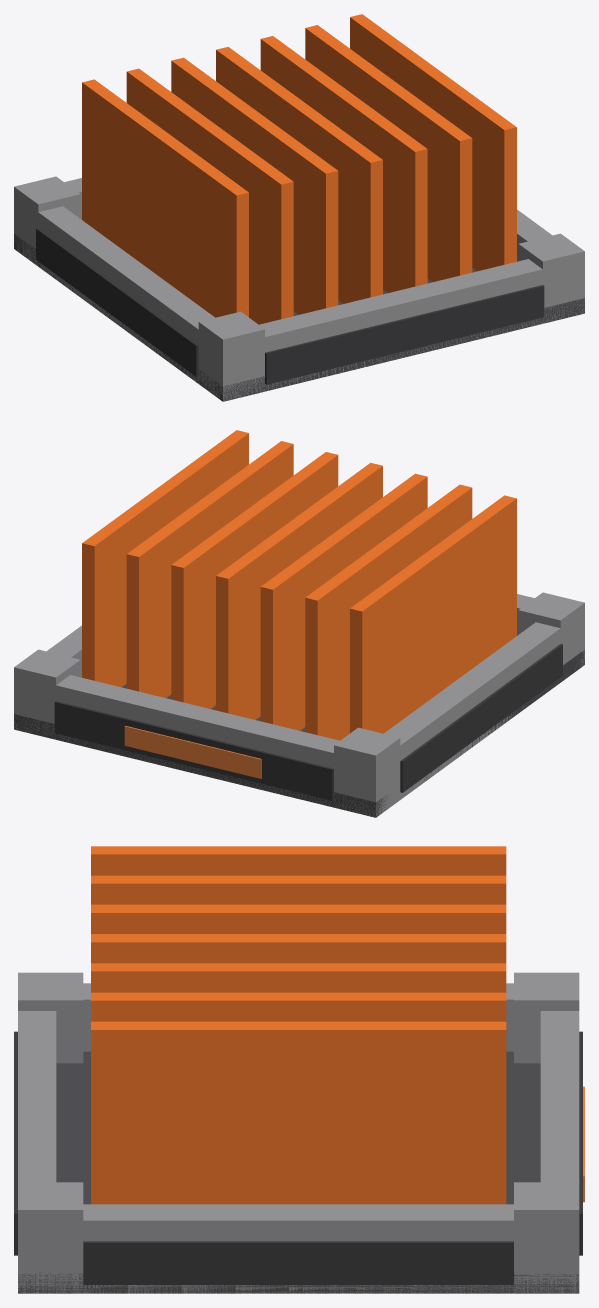
The model's file is vge_large_heatsink_hot.obj.
3 views of the same model, one above another, from view 1: azimuth 30°, elevation 25°; view 2: azimuth 150°, elevation 25°; view 3: azimuth 270°, elevation 25° (orthographic). The views are drawn at different scales.
Visible parts, largest first — view 1: vge_large_heatsink_hot_9, vge_large_heatsink_hot_1, vge_large_heatsink_hot_11, vge_large_heatsink_hot_14, vge_large_heatsink_hot_13, vge_large_heatsink_hot_12, vge_large_heatsink_hot_15, vge_large_heatsink_hot_10, vge_large_heatsink_hot_16, vge_large_heatsink_hot_3, vge_large_heatsink_hot_18, vge_large_heatsink_hot_0 (+5 smaller); view 2: vge_large_heatsink_hot_9, vge_large_heatsink_hot_2, vge_large_heatsink_hot_11, vge_large_heatsink_hot_14, vge_large_heatsink_hot_13, vge_large_heatsink_hot_12, vge_large_heatsink_hot_15, vge_large_heatsink_hot_10, vge_large_heatsink_hot_3, vge_large_heatsink_hot_17, vge_large_heatsink_hot_18, vge_large_heatsink_hot_0 (+6 smaller); view 3: vge_large_heatsink_hot_15, vge_large_heatsink_hot_4, vge_large_heatsink_hot_19, vge_large_heatsink_hot_0, vge_large_heatsink_hot_9, vge_large_heatsink_hot_13, vge_large_heatsink_hot_10, vge_large_heatsink_hot_11, vge_large_heatsink_hot_12, vge_large_heatsink_hot_14, vge_large_heatsink_hot_2, vge_large_heatsink_hot_1 (+7 smaller).
Boxes of the visible parts, x1,y1,x2,y2 form: vge_large_heatsink_hot_9: (82, 79, 248, 317); vge_large_heatsink_hot_1: (208, 259, 584, 401); vge_large_heatsink_hot_11: (171, 57, 338, 314); vge_large_heatsink_hot_14: (305, 25, 472, 281); vge_large_heatsink_hot_13: (260, 36, 427, 292); vge_large_heatsink_hot_12: (216, 46, 382, 303); vge_large_heatsink_hot_15: (350, 14, 516, 271); vge_large_heatsink_hot_10: (126, 68, 293, 324); vge_large_heatsink_hot_16: (265, 285, 544, 384); vge_large_heatsink_hot_3: (28, 205, 214, 390); vge_large_heatsink_hot_18: (36, 228, 198, 376); vge_large_heatsink_hot_0: (14, 233, 584, 401); vge_large_heatsink_hot_9: (350, 495, 516, 733); vge_large_heatsink_hot_2: (14, 675, 390, 817); vge_large_heatsink_hot_11: (260, 473, 427, 730); vge_large_heatsink_hot_14: (126, 441, 293, 697); vge_large_heatsink_hot_13: (171, 452, 338, 708); vge_large_heatsink_hot_12: (216, 462, 382, 719); vge_large_heatsink_hot_15: (82, 430, 248, 687); vge_large_heatsink_hot_10: (305, 484, 472, 740); vge_large_heatsink_hot_3: (384, 622, 566, 806); vge_large_heatsink_hot_17: (54, 701, 333, 800); vge_large_heatsink_hot_18: (400, 644, 562, 792); vge_large_heatsink_hot_0: (14, 649, 584, 817); vge_large_heatsink_hot_15: (91, 1021, 506, 1204); vge_large_heatsink_hot_4: (56, 1204, 540, 1293); vge_large_heatsink_hot_19: (83, 1241, 513, 1284); vge_large_heatsink_hot_0: (18, 1051, 579, 1293); vge_large_heatsink_hot_9: (91, 846, 506, 875); vge_large_heatsink_hot_13: (91, 963, 506, 992); vge_large_heatsink_hot_10: (91, 875, 506, 904); vge_large_heatsink_hot_11: (91, 904, 506, 933); vge_large_heatsink_hot_12: (91, 934, 506, 963); vge_large_heatsink_hot_14: (91, 992, 506, 1021); vge_large_heatsink_hot_2: (540, 1011, 579, 1293); vge_large_heatsink_hot_1: (18, 1011, 56, 1293).
Bounding box in the file's own units: 2.96 × 1.36 × 2.97.
